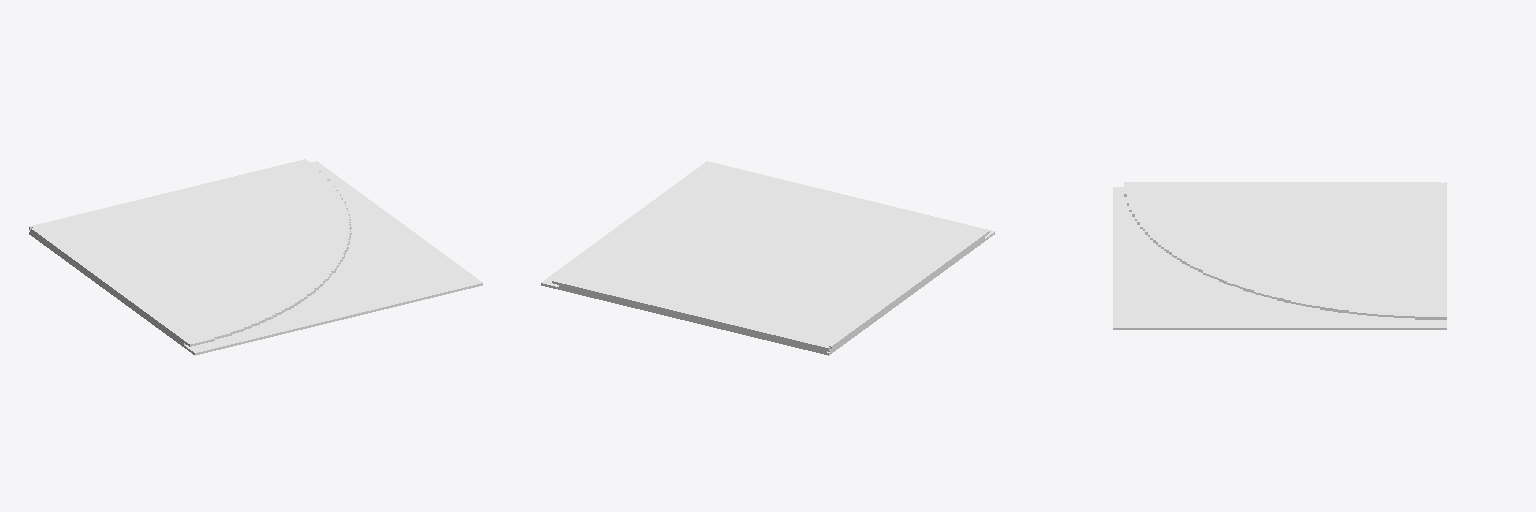
The model's file is erivaleCastle-2.obj.
3 views of the same model, side by side, from view 1: azimuth 30°, elevation 25°; view 2: azimuth 150°, elevation 25°; view 3: azimuth 270°, elevation 25° (orthographic).
Visible parts, largest first — view 1: object 1; view 2: object 1; view 3: object 1.
Boxes of the visible parts, <box> form: object 1: <box>29,159,482,355</box>; object 1: <box>541,161,994,355</box>; object 1: <box>1113,182,1446,329</box>.
Size of the model in its own units: 12.6 by 0.3 by 12.6.